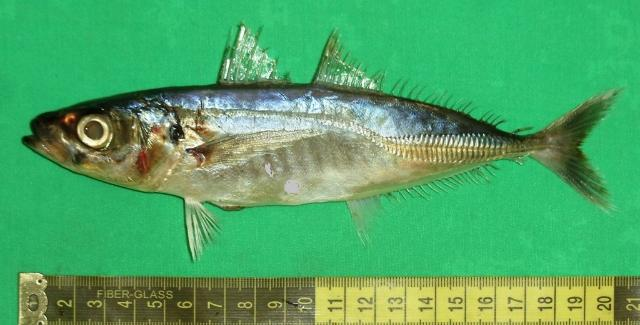Mulut: (17, 111, 59, 171)
Sirip Anal: (347, 158, 498, 250)
Sirip Dada: (186, 118, 322, 174)
Sirip Ekor: (544, 70, 636, 230)
Sirip Perut: (176, 187, 222, 266)
Sirip Punggung: (213, 11, 391, 99)
